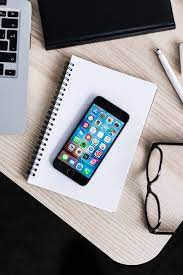Cell Phone: (59, 96, 119, 184)
